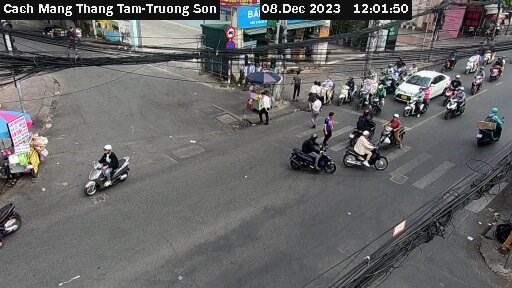car: (398, 67, 447, 103)
motorbike: (73, 146, 145, 192), (293, 126, 336, 187), (349, 128, 395, 180), (1, 189, 38, 251), (472, 108, 509, 151), (382, 108, 415, 147), (402, 87, 433, 119), (441, 86, 469, 118), (486, 52, 511, 80), (468, 65, 488, 95), (315, 71, 338, 94), (440, 50, 464, 72), (464, 49, 486, 71)
